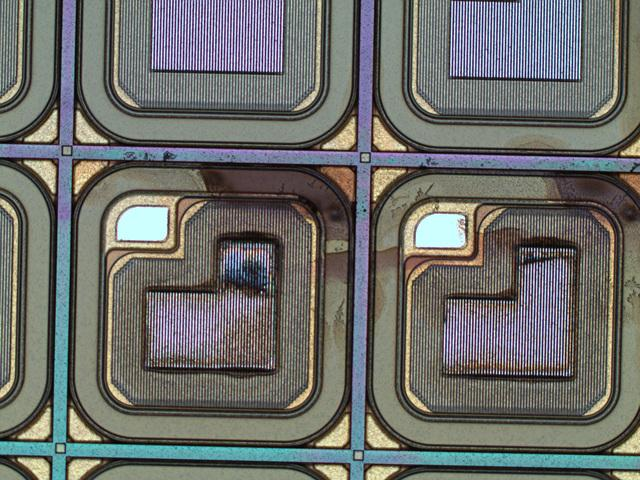SEZ BURNT: (143, 132, 640, 388)
